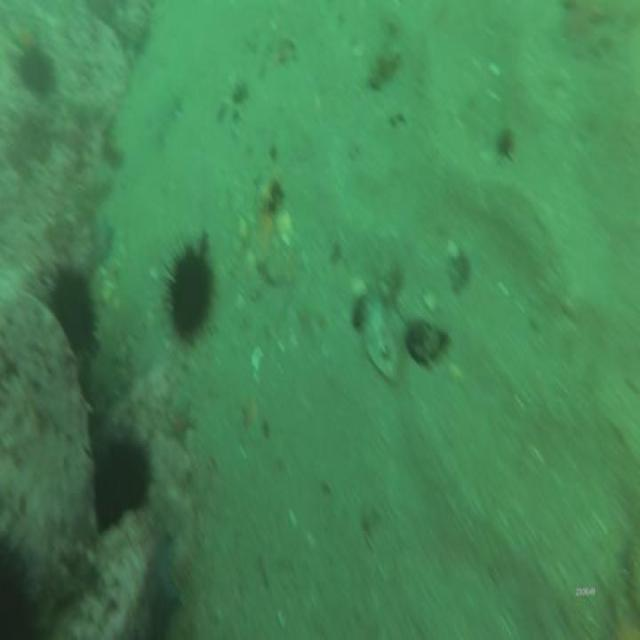echinus: (93, 425, 153, 529), (166, 242, 213, 343), (51, 262, 98, 362), (15, 44, 57, 93)
